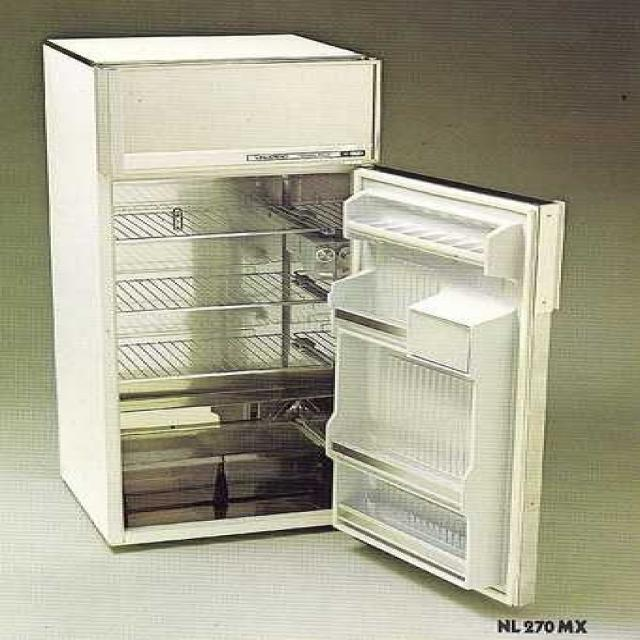refrigerator: (96, 62, 444, 558)
